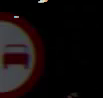No overtake: (0, 9, 45, 95)
